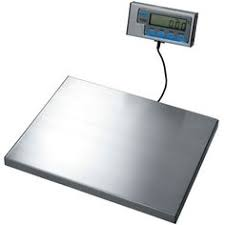Industrial Scale: (1, 1, 222, 224)
